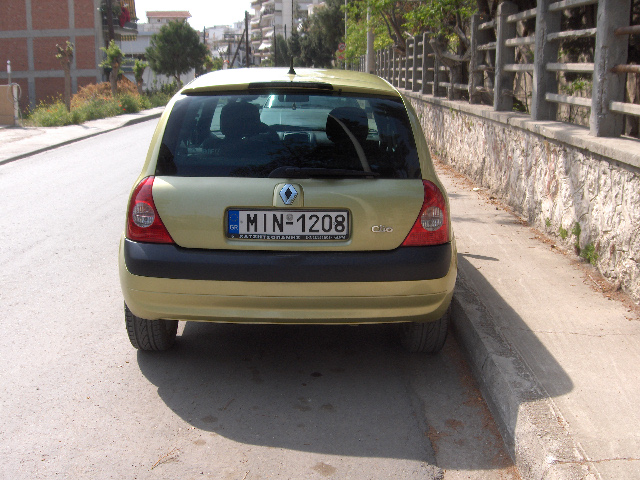licenseplate: (226, 207, 350, 240)
